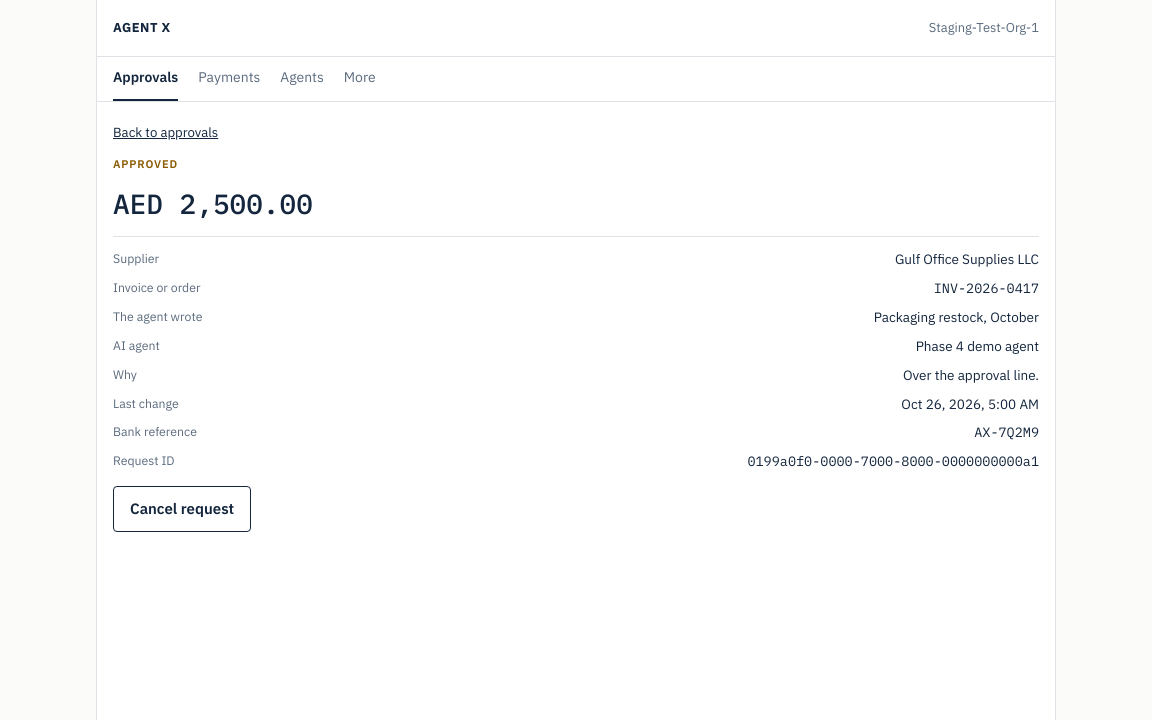
Test: one request’s page (6B1) › cancels in one click, with no step-up or confirm (decision 10), says so, and reads it again
Expected: the text "Approved" is shown, [113,157,178,171]
Click the button "Cancel request": (182, 509) [113,486,251,532]
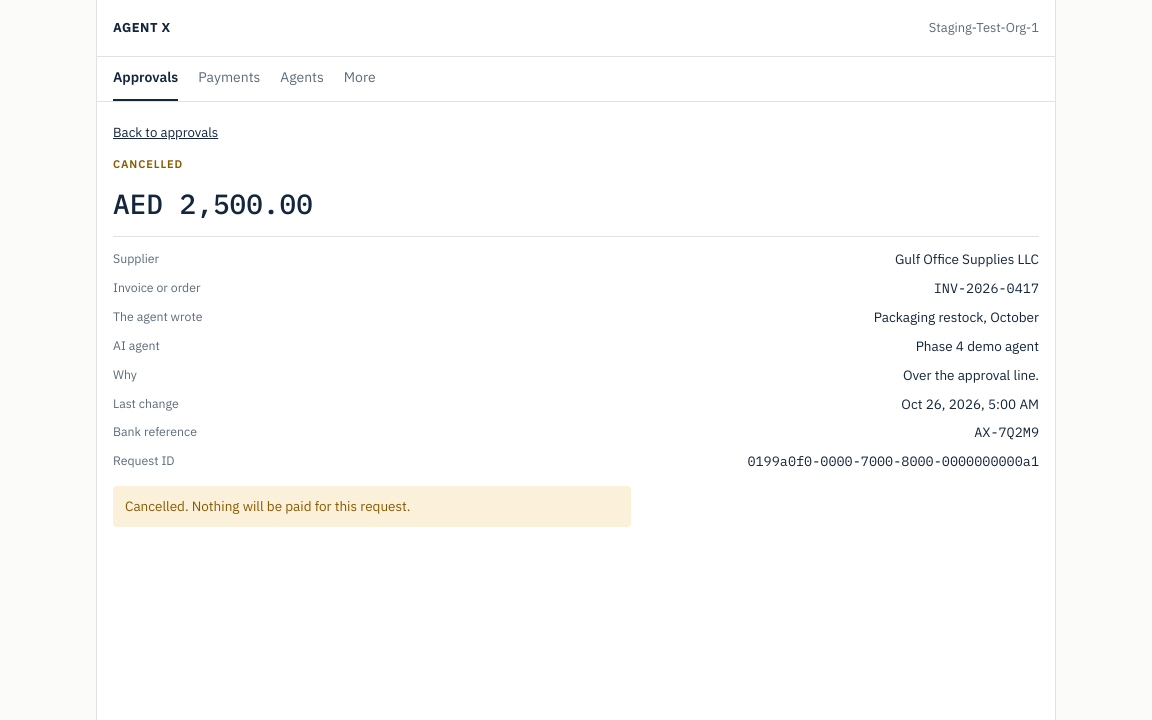
Expected: the text "Cancelled. Nothing will be paid for this request." is shown, [113,486,631,527]
Expected: the text "Cancelled" is shown, [113,157,183,171]
Expected: the button "Cancel request" is gone
